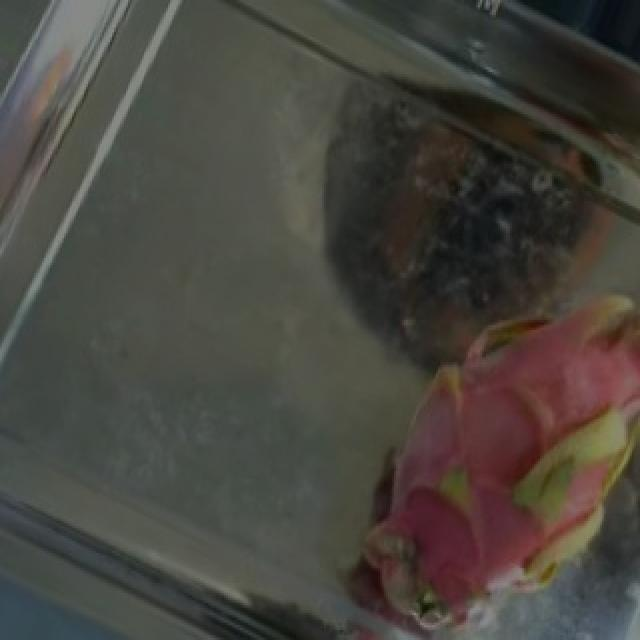fruit: (282, 223, 640, 638)
